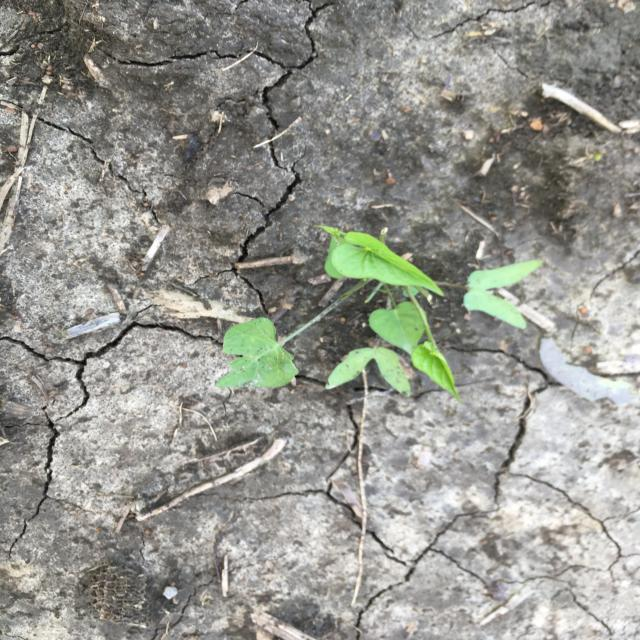MorningGlory: (210, 222, 546, 400)
